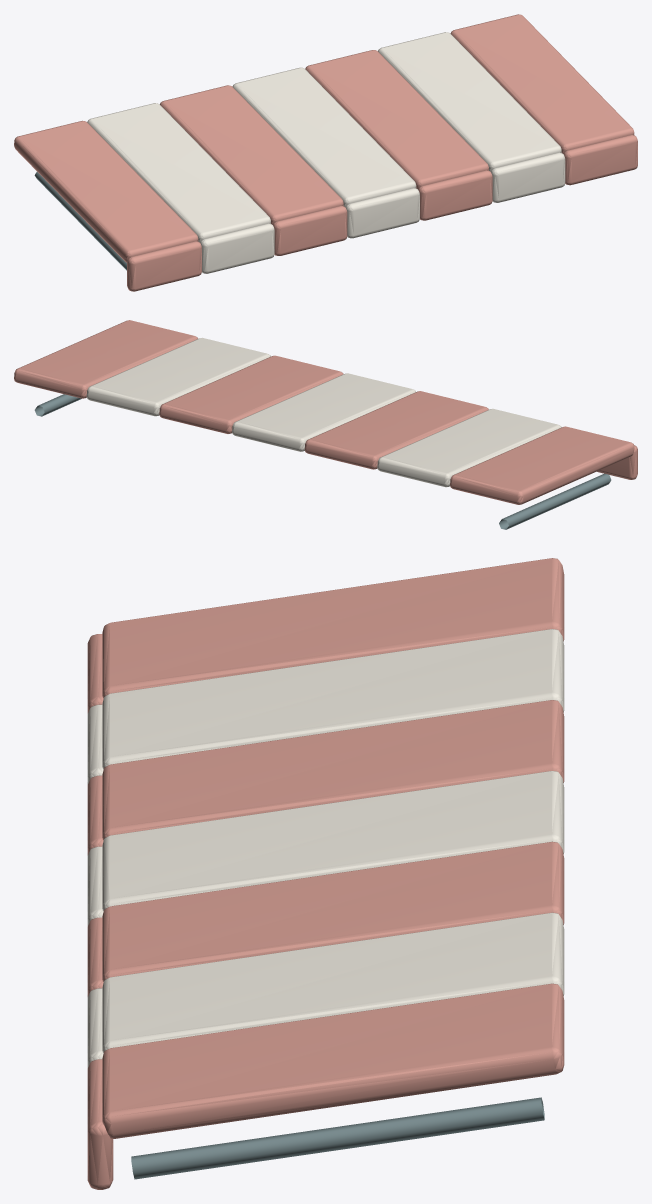
The model's file is EntranceAwning.fbx.
3 views of the same model, one above another, from view 1: azimuth 30°, elevation 25°; view 2: azimuth 150°, elevation 25°; view 3: azimuth 270°, elevation 25° (orthographic). The views are drawn at different scales.
Parts seen in each view (by area): view 1: EntranceAwning; view 2: EntranceAwning; view 3: EntranceAwning.
Boxes of the visible parts, bbox=[...] form: EntranceAwning: bbox=[14, 14, 637, 291]; EntranceAwning: bbox=[14, 320, 637, 529]; EntranceAwning: bbox=[87, 558, 564, 1189].
Bounding box in the file's own units: 2.52 × 0.3499 × 1.02.
